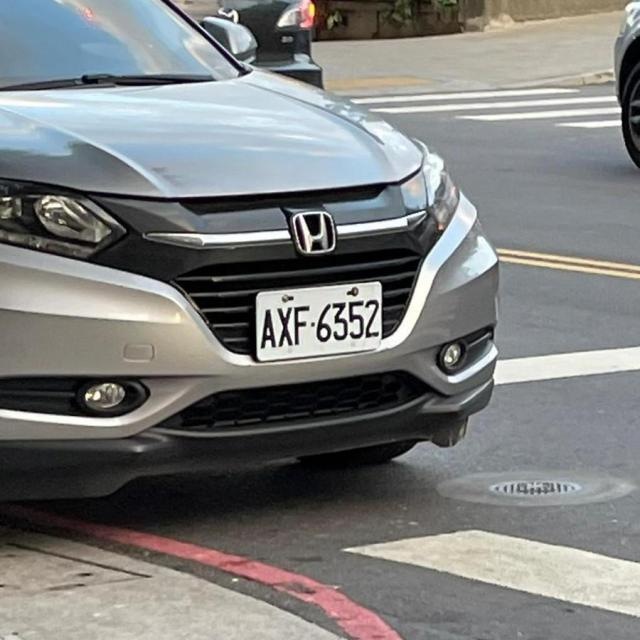W: (242, 274, 392, 365)
